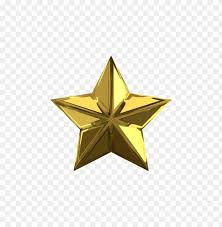star: (48, 54, 172, 172)
